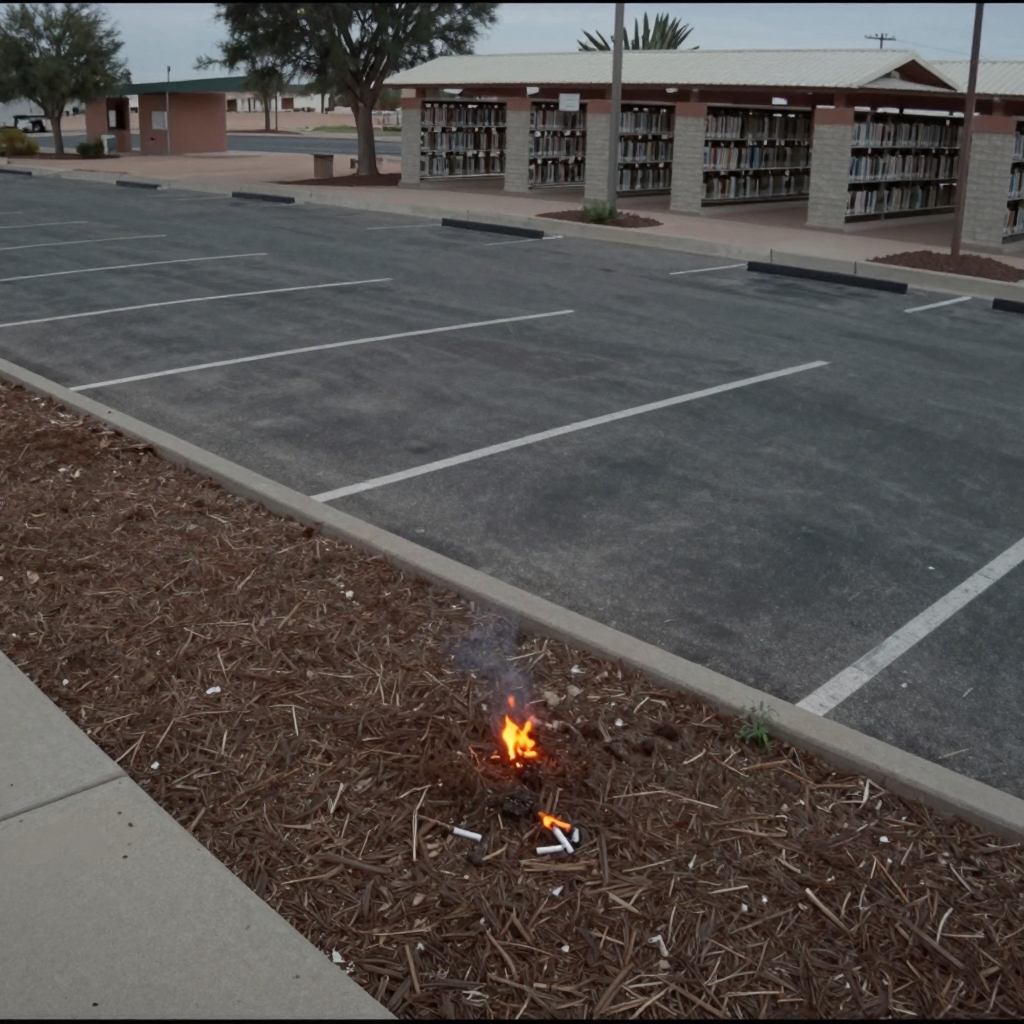Arson: (488, 698, 554, 764)
